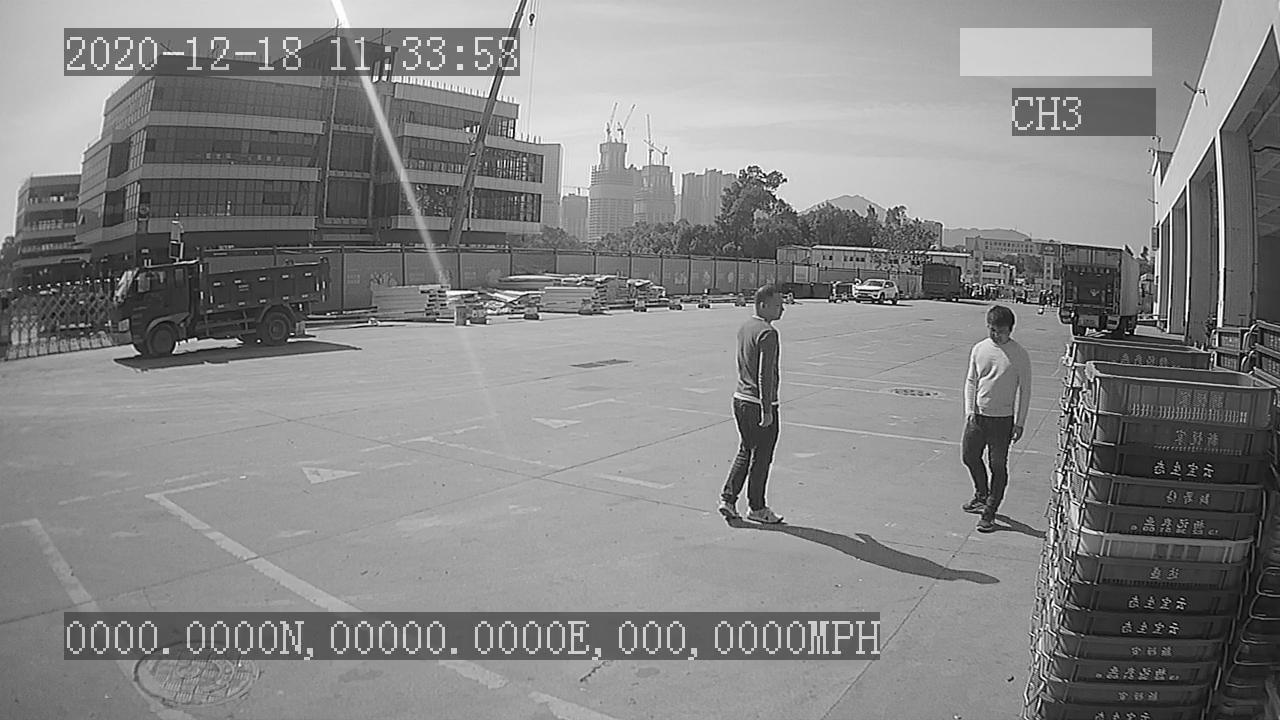person: (954, 305, 1034, 533), (717, 285, 789, 530)
